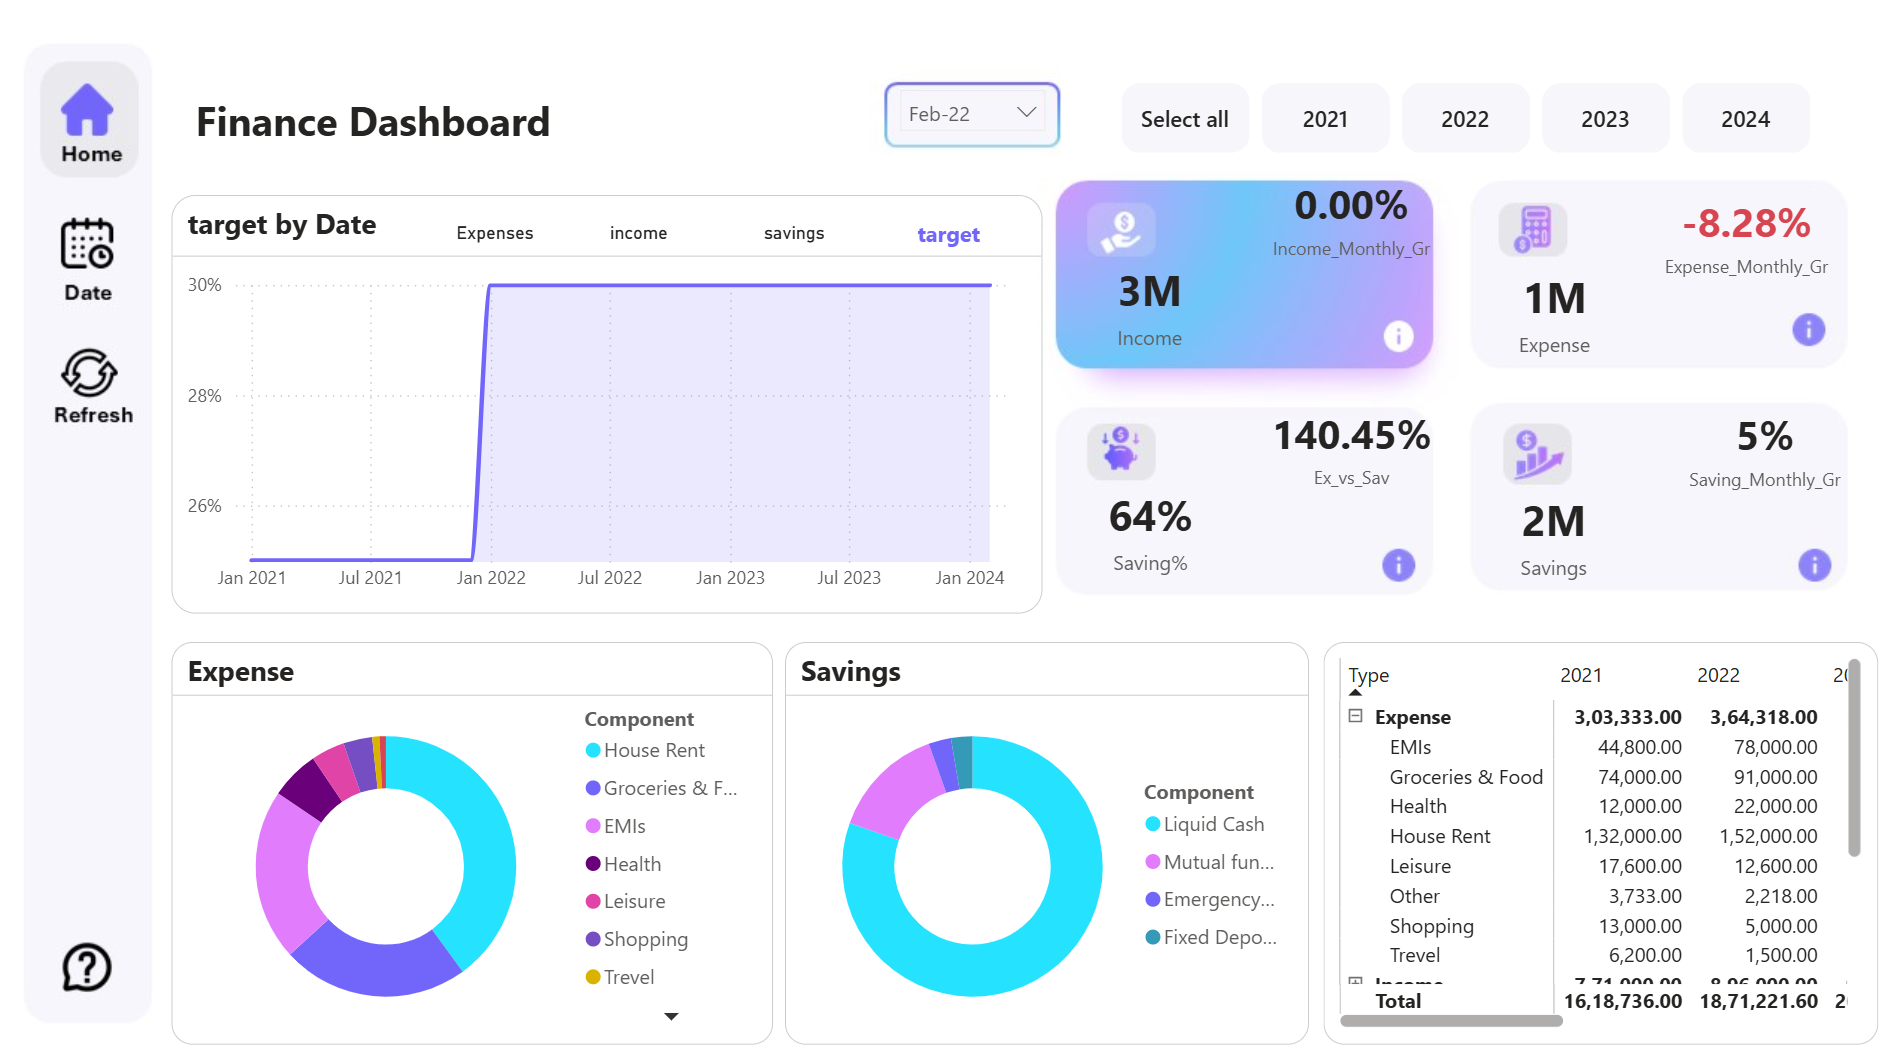

What the dashboard file says about the page in this screenshot:
{"tool":"powerbi","page":{"name":"Page 1","canvas":[1280,720],"ordinal":0},"visuals":[{"type":"card","fields":{"Values":["Data set.Income"]},"box":[708,161.1,142.5,98.5],"z":0},{"type":"card","fields":{"Values":["Data set.Saving%"]},"box":[732.3,316.3,95,88.1],"z":2000},{"type":"card","fields":{"Values":["Data set.Expenses"]},"box":[946.7,158.7,208.6,111.2],"z":3000},{"type":"card","fields":{"Values":["Data set.Savings"]},"box":[991.9,327.9,117,73],"z":4000},{"type":"advancedSlicerVisual","fields":{"Values":["Data set.Year"]},"box":[755.5,56.8,473.9,57.9],"z":5000},{"type":"donutChart","title":"Savings","fields":{"Category":["Data set.Component"],"Y":["Data set.Savings"]},"box":[535.3,436.8,351.1,270],"z":6000},{"type":"donutChart","title":"Expense","fields":{"Category":["Data set.Component"],"Y":["Data set.Expense"]},"box":[124,436.8,403.2,270],"z":7000},{"type":"pivotTable","fields":{"Values":["Data set.Total_Value"],"Rows":["Data set.Type","Data set.Component"],"Columns":["Data set.Year"]},"box":[895.7,436.8,372,270],"z":8000},{"type":"areaChart","fields":{"Category":["Data set.Date"],"Y":["Data set.Line_Chart_Measure"]},"box":[124,136.7,584,280.4],"z":9000},{"type":"advancedSlicerVisual","fields":{"Values":["Line_selection_table.type"]},"box":[304.7,144.8,414.8,38.2],"z":10000},{"type":"textbox","box":[135,63.8,306.2,52.5],"z":11000},{"type":"slicer","fields":{"Values":["Selected_Date.Month_yr"]},"box":[602.5,56.8,117,45.2],"z":12000},{"type":"card","fields":{"Values":["Data set.Expense_Monthly_Gr"]},"box":[1108.9,115.9,140.2,95],"z":13000},{"type":"card","fields":{"Values":["Data set.Income_Monthly_Gr"]},"box":[850.5,113.6,127.5,75.3],"z":14000},{"type":"card","fields":{"Values":["Data set.Saving_Monthly_Gr"]},"box":[1134.4,270,114.7,73],"z":15000},{"type":"card","fields":{"Values":["Data set.Ex_vs_Sav"]},"box":[850.5,267.7,127.5,75.3],"z":16000},{"type":"actionButton","box":[32.5,145,67.5,65],"z":17000},{"type":"actionButton","box":[32.5,237.5,67.5,58.8],"z":19000}]}

Visuals, with their boxes on the page's 1280x720 design canvas (x1, y1, x2, y2). These are canvas units, not pixel positions in the 1886x1061 screenshot, which may show the page scaled, cropped or inside an application window:
card - Data set.Income: locate(708, 161, 850, 260)
card - Data set.Saving%: locate(732, 316, 827, 404)
card - Data set.Expenses: locate(947, 159, 1155, 270)
card - Data set.Savings: locate(992, 328, 1109, 401)
advancedSlicerVisual - Data set.Year: locate(756, 57, 1229, 115)
"Savings" donutChart: locate(535, 437, 886, 707)
"Expense" donutChart: locate(124, 437, 527, 707)
pivotTable - Data set.Total_Value x Data set.Type: locate(896, 437, 1268, 707)
areaChart - Data set.Date x Data set.Line_Chart_Measure: locate(124, 137, 708, 417)
advancedSlicerVisual - Line_selection_table.type: locate(305, 145, 720, 183)
textbox: locate(135, 64, 441, 116)
slicer - Selected_Date.Month_yr: locate(602, 57, 720, 102)
card - Data set.Expense_Monthly_Gr: locate(1109, 116, 1249, 211)
card - Data set.Income_Monthly_Gr: locate(850, 114, 978, 189)
card - Data set.Saving_Monthly_Gr: locate(1134, 270, 1249, 343)
card - Data set.Ex_vs_Sav: locate(850, 268, 978, 343)
actionButton: locate(32, 145, 100, 210)
actionButton: locate(32, 238, 100, 296)
